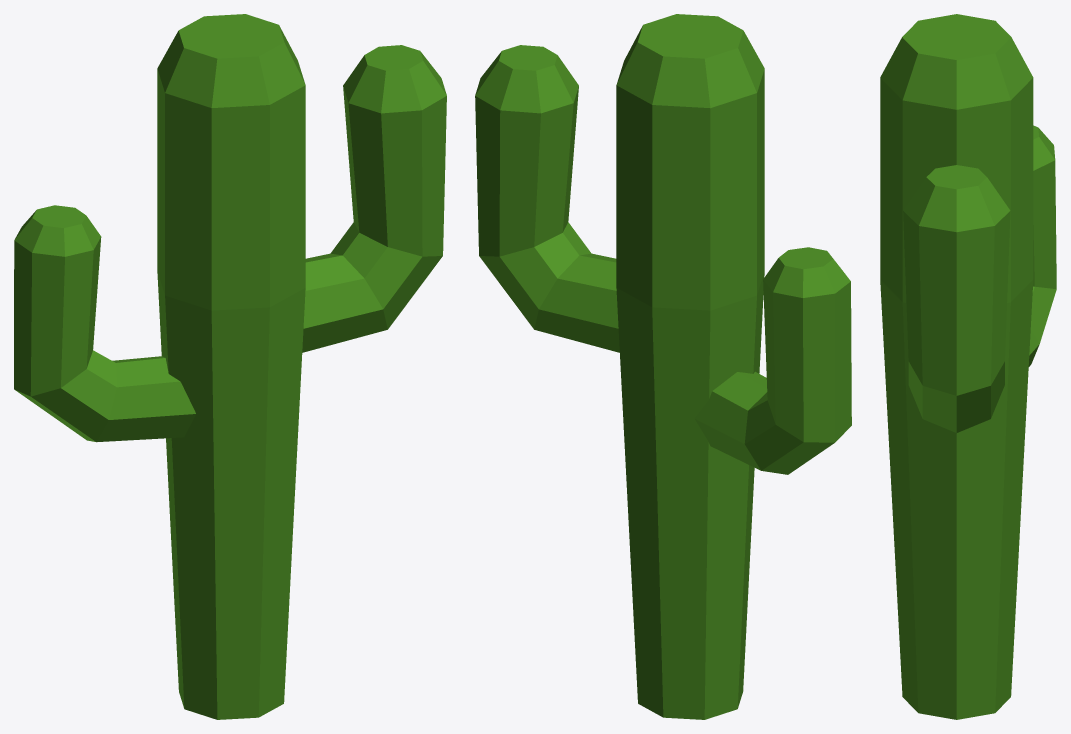
Rendered from Cactus.fbx.
3 renders of one model, left to right at view 1: azimuth 30°, elevation 25°; view 2: azimuth 150°, elevation 25°; view 3: azimuth 270°, elevation 25°, orthographic.
Parts seen in each view (by area): view 1: Cylinder; view 2: Cylinder; view 3: Cylinder.
Boxes of the visible parts, <box> form: Cylinder: <box>14,14,446,719</box>; Cylinder: <box>475,14,851,719</box>; Cylinder: <box>880,14,1056,719</box>.
Size of the model in its own units: 415 by 671 by 163.
